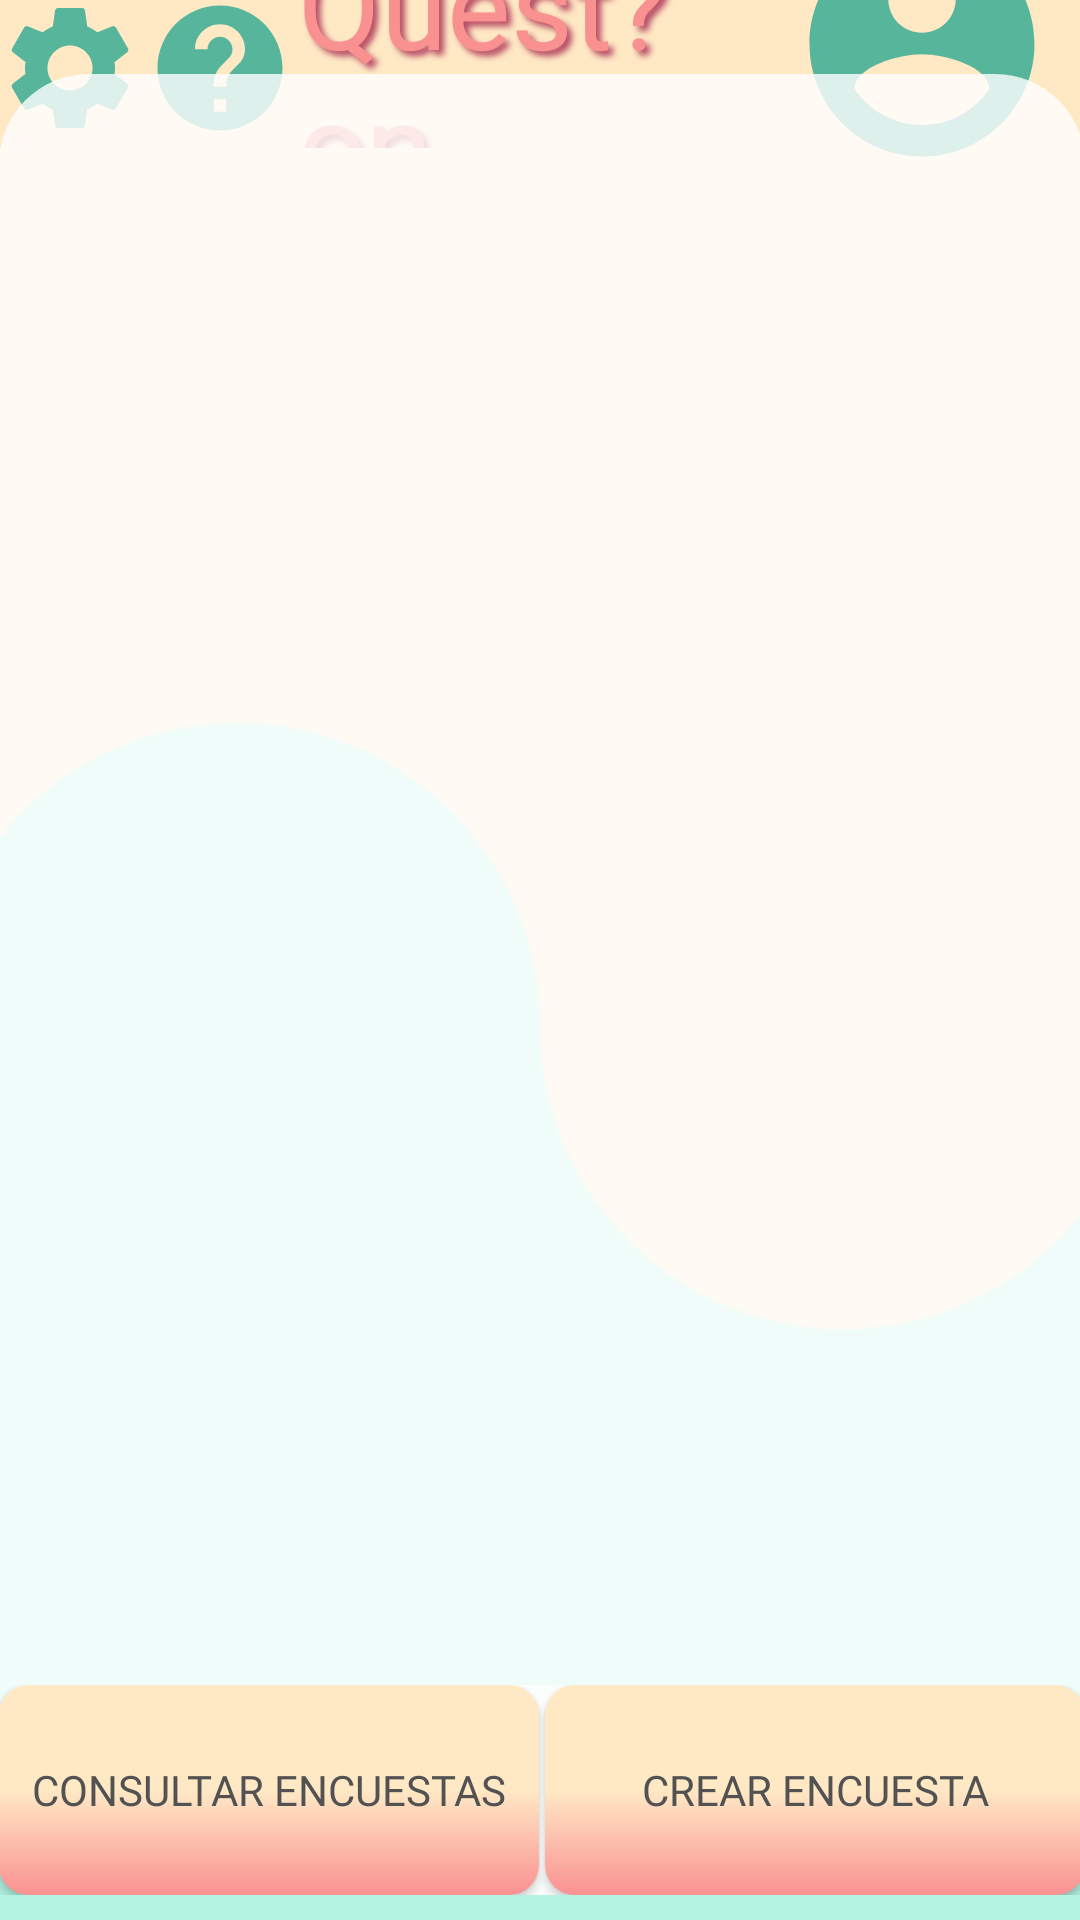

Named icons in this screenshot (1080px x 1920px) and their bounding boxes, (x1, y1, x2, y2):
help: (145, 0, 295, 130)
settings: (0, 0, 145, 143)
